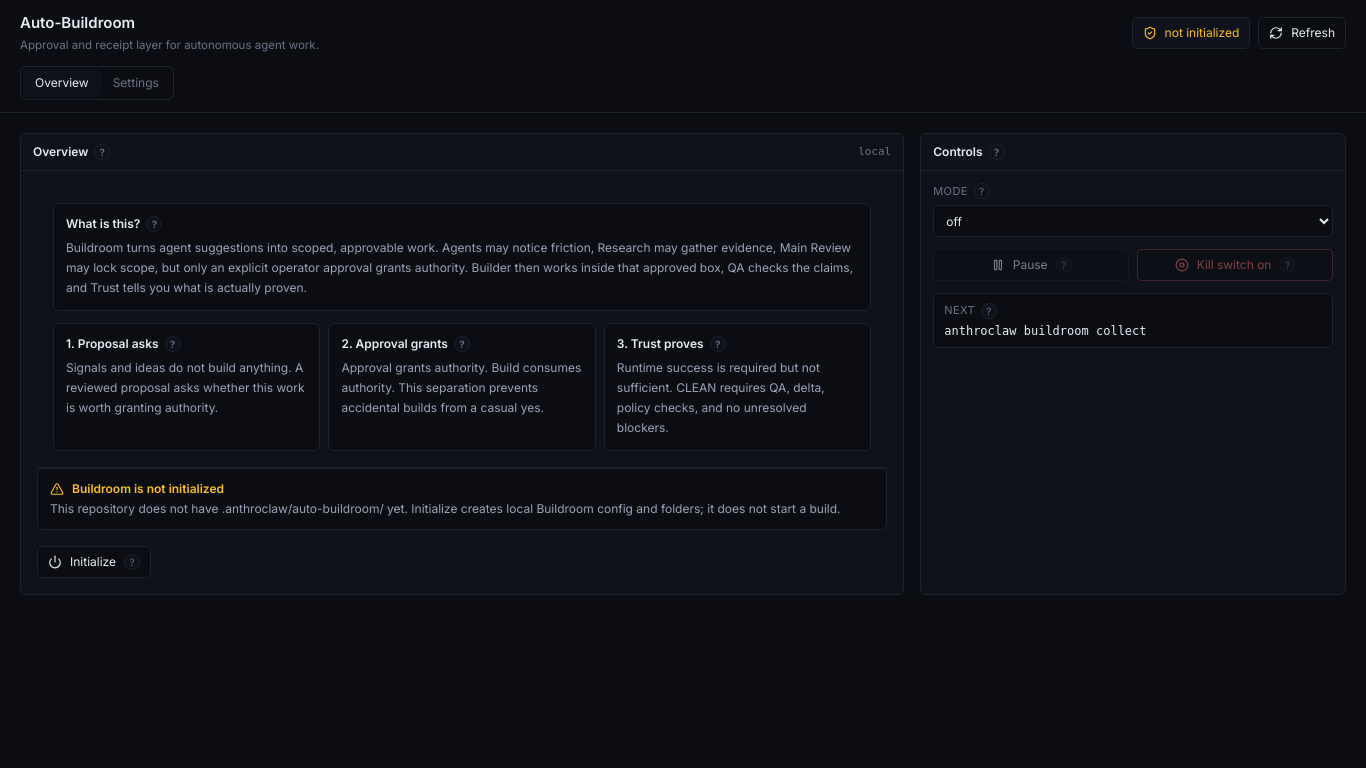
Test: <BuildroomOverview /> › renders not initialized state and initializes Buildroom from the cockpit
Check: the text "Buildroom is not initialized" is shown, box [50, 481, 224, 496]
Click the button "Initialize ?".
click(94, 562)  # box [37, 546, 151, 578]
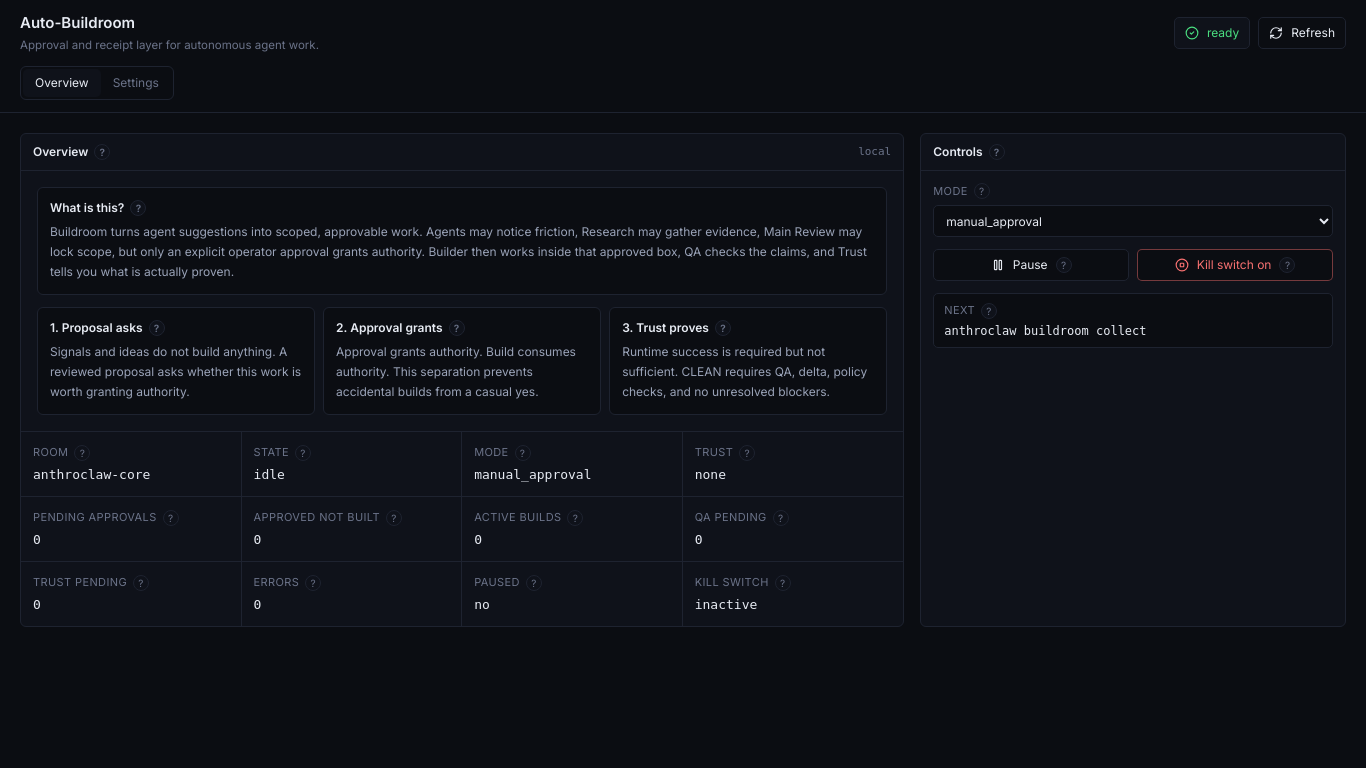
Check: the text "manual_approval" is shown, box [474, 467, 592, 482]
Check: the text "ready" is shown, box [1174, 17, 1250, 49]
